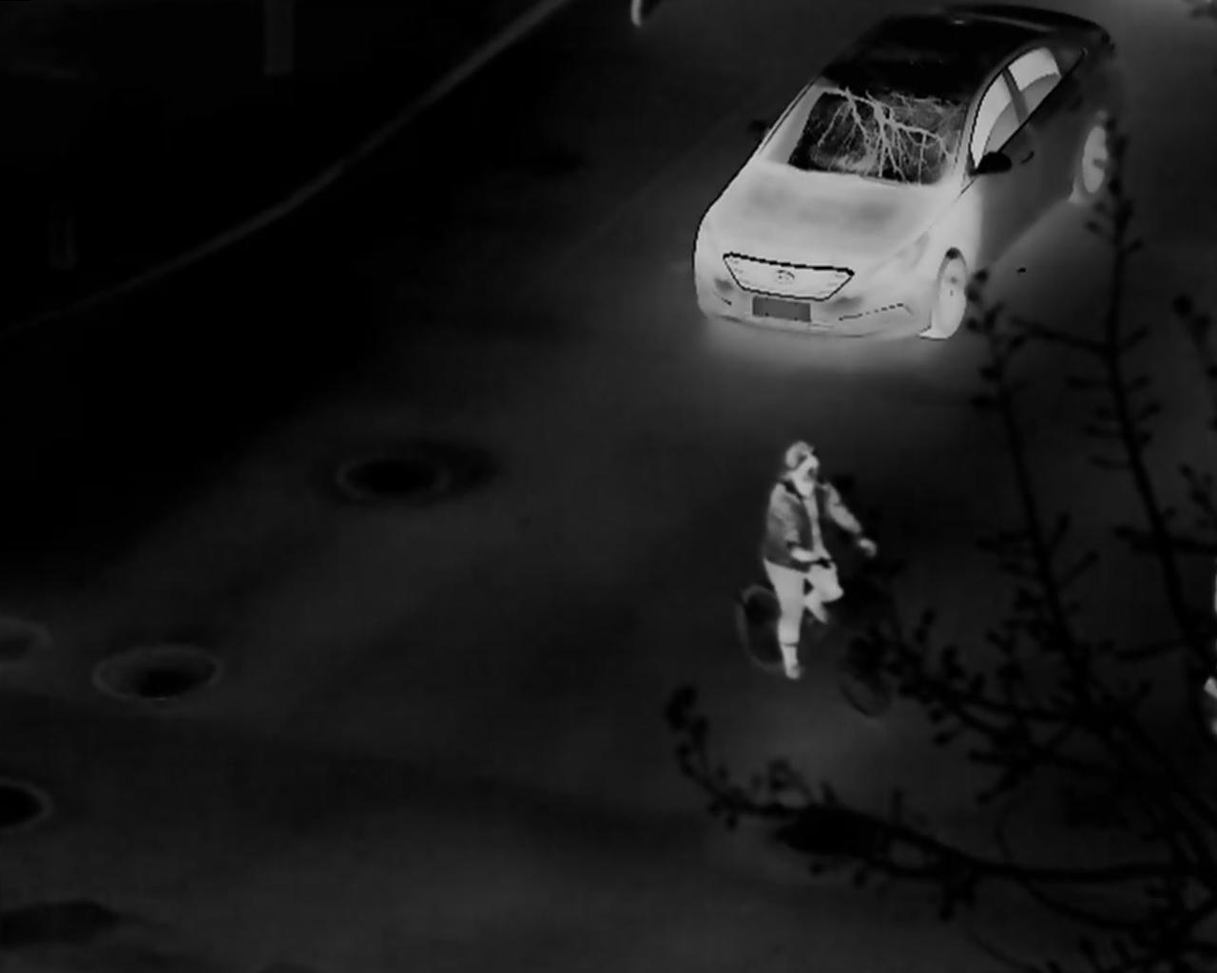person: (760, 439, 878, 681)
